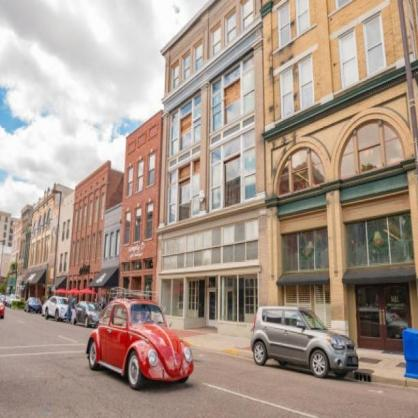car: (88, 298, 198, 392), (254, 307, 359, 380), (45, 295, 67, 323), (75, 302, 97, 326), (26, 297, 44, 314)
